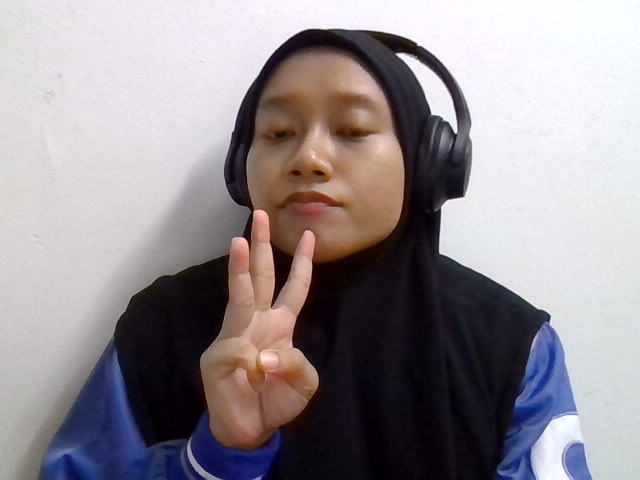Selangor: (200, 189, 346, 444)
